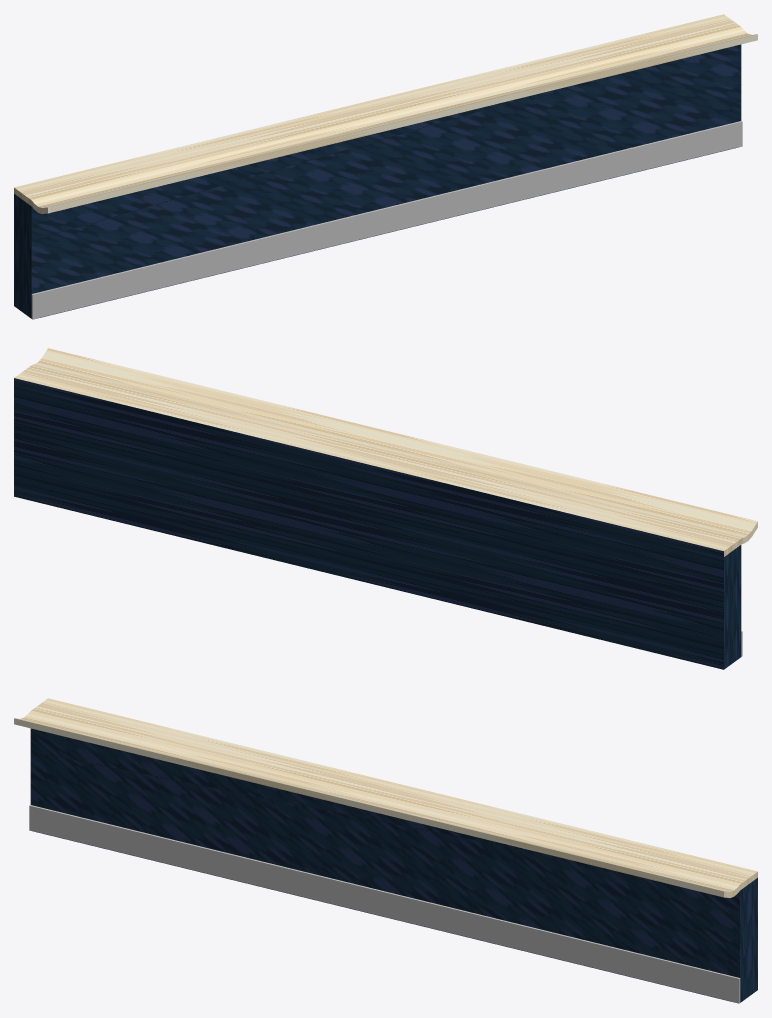
Rendered from paredNvl3.fbx.
The picture shows the model from 3 angles, top to bottom: view 1: azimuth 30°, elevation 25°; view 2: azimuth 150°, elevation 25°; view 3: azimuth 330°, elevation 25°; orthographic projection.
Visible parts, largest first — view 1: Cubo; view 2: Cubo; view 3: Cubo.
Part boxes in pixels (x1,y1,x2,y2): Cubo: [14, 14, 757, 319]; Cubo: [14, 348, 757, 669]; Cubo: [14, 698, 757, 1003].
Size of the model in its own units: 2095 by 348 by 174.
